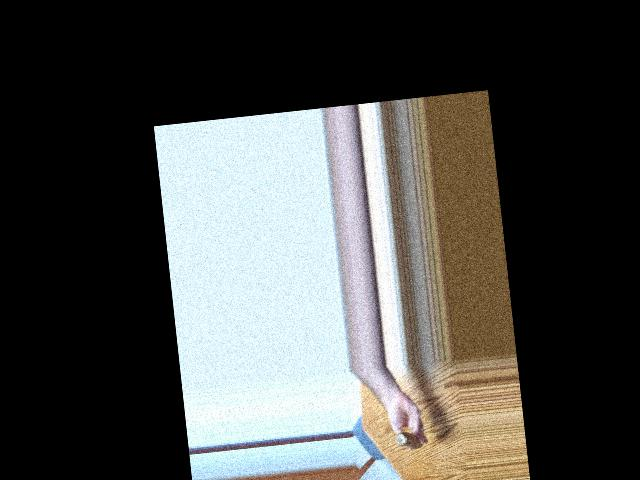sweet_potato: (390, 425, 424, 452)
